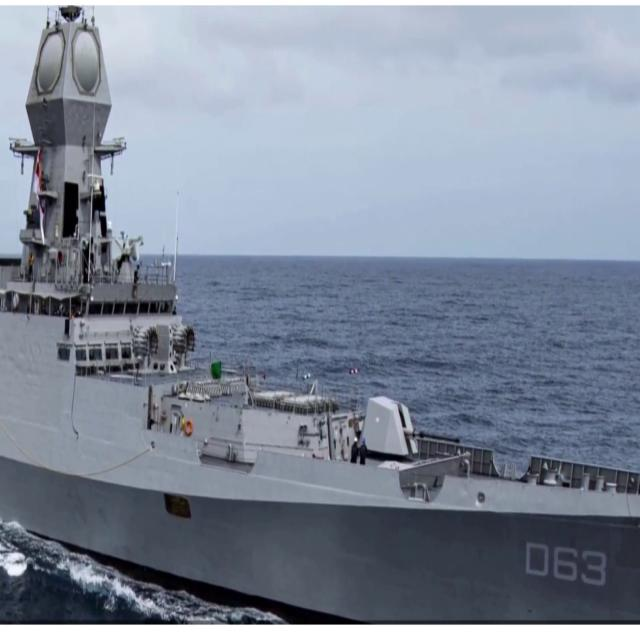OCR: (521, 536, 613, 590)
